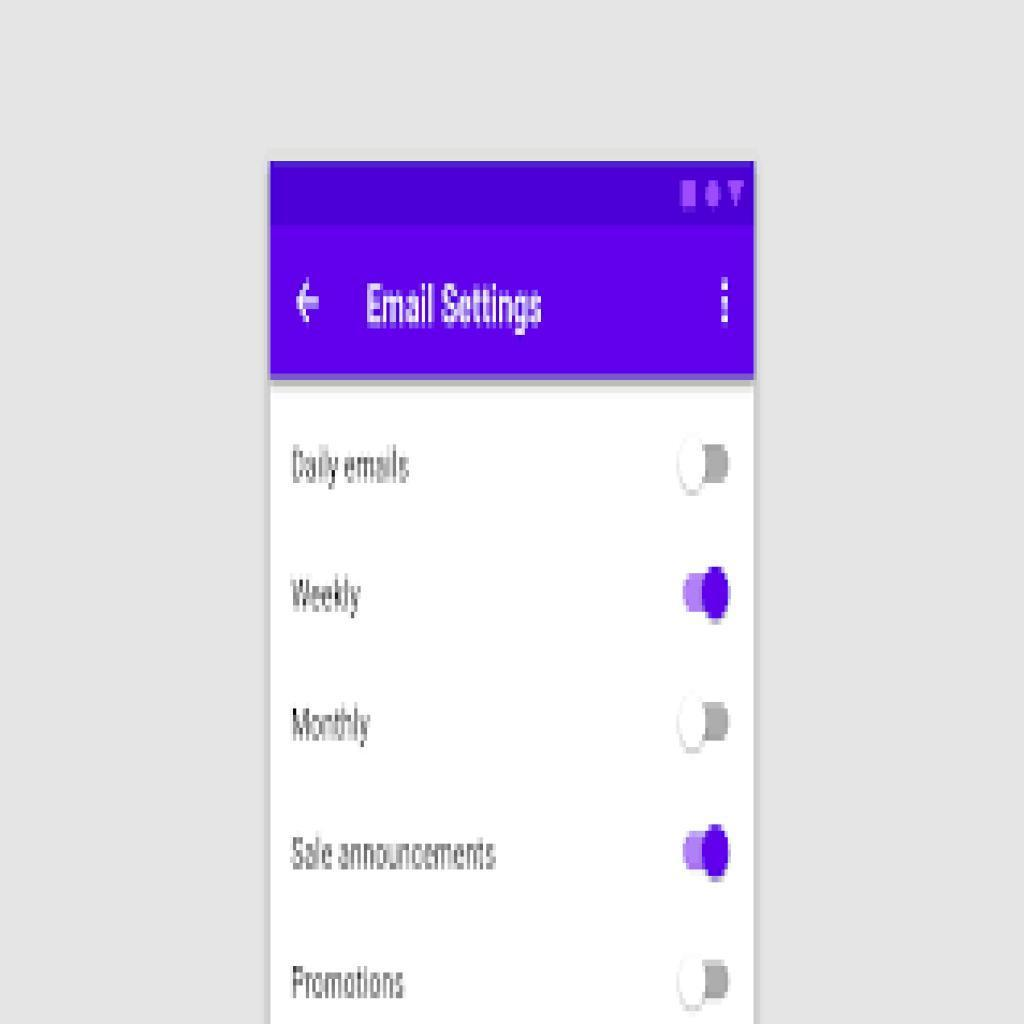icon: (290, 275, 325, 327), (713, 271, 741, 334)
label: (358, 273, 552, 339), (289, 830, 504, 878), (283, 438, 422, 494), (288, 958, 410, 1012), (289, 570, 366, 626), (290, 701, 372, 752)
switch: (678, 693, 731, 754), (678, 953, 729, 1013), (683, 822, 731, 883), (680, 440, 730, 497), (683, 566, 730, 625)
